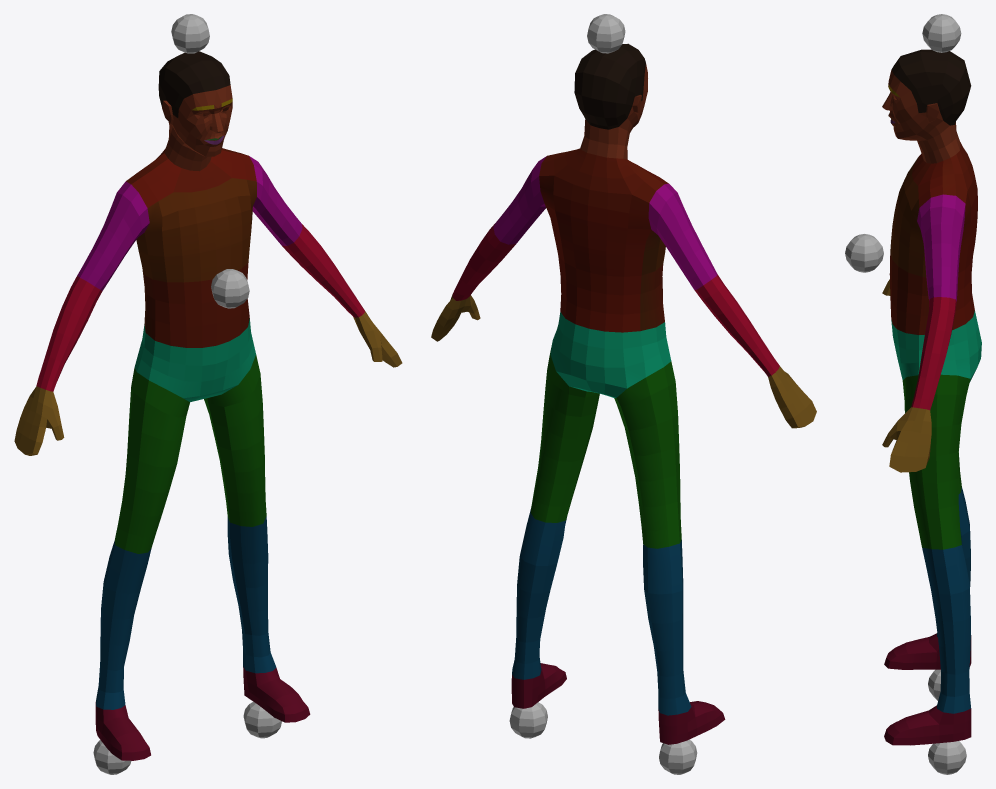
File: LayeredClothingTemplate.fbx
3 views of the same model, side by side, from view 1: azimuth 30°, elevation 25°; view 2: azimuth 150°, elevation 25°; view 3: azimuth 270°, elevation 25° (orthographic). The views are drawn at different scales.
Parts seen in each view (by area): view 1: YourClothingName__OuterCage, BodyFront_Att, Hat_Att, LeftFoot_Att, RightFoot_Att; view 2: YourClothingName__OuterCage, Hat_Att, RightFoot_Att, LeftFoot_Att; view 3: YourClothingName__OuterCage, Hat_Att, BodyFront_Att, LeftFoot_Att, RightFoot_Att.
Boxes of the visible parts, x1,y1,x2,y2 form: YourClothingName__OuterCage: (14,51,402,760); BodyFront_Att: (211,269,249,308); Hat_Att: (171,14,209,53); LeftFoot_Att: (243,702,281,738); RightFoot_Att: (93,740,131,774); YourClothingName__OuterCage: (431,43,816,744); Hat_Att: (587,14,625,53); RightFoot_Att: (659,739,697,774); LeftFoot_Att: (509,702,547,738); YourClothingName__OuterCage: (882,49,981,745); Hat_Att: (922,14,961,52); BodyFront_Att: (845,234,883,272); LeftFoot_Att: (928,741,966,774); RightFoot_Att: (928,669,940,700).
Bounding box in the file's own units: 3.23 × 6.12 × 1.05.
